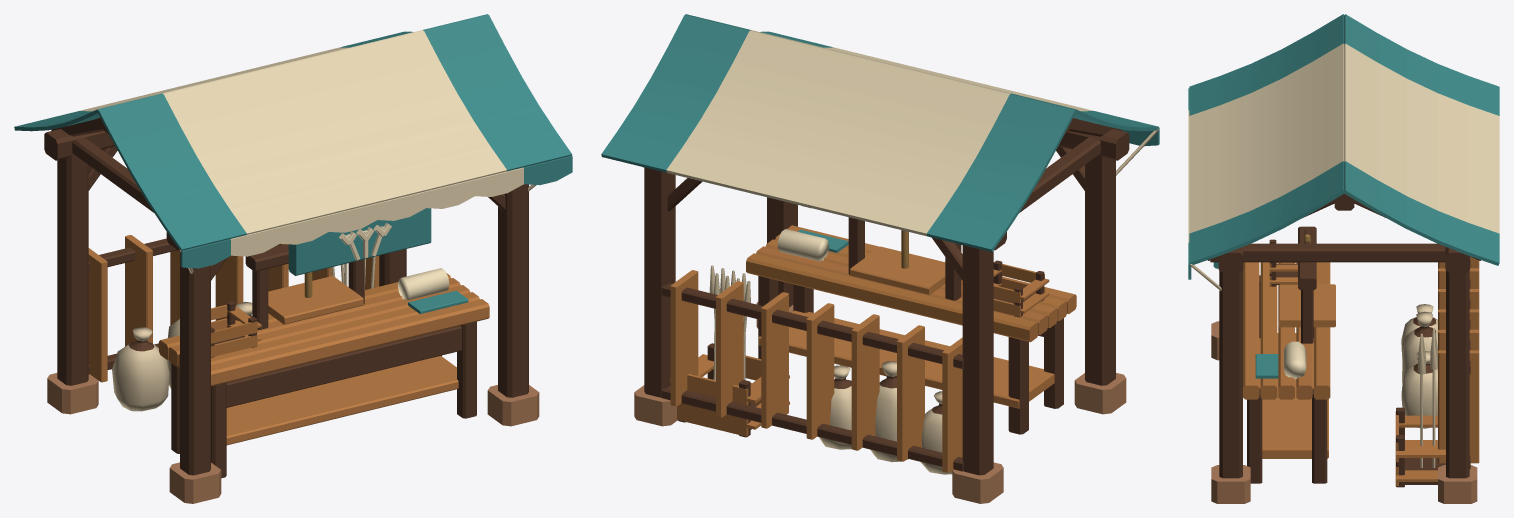
Rendered from station_trade_neva_a.glb.
3 renders of one model, left to right at view 1: azimuth 30°, elevation 25°; view 2: azimuth 150°, elevation 25°; view 3: azimuth 270°, elevation 25°, orthographic. The views are drawn at different scales.
Parts seen in each view (by area): view 1: station_trade_neva_a_workyard; view 2: station_trade_neva_a_workyard; view 3: station_trade_neva_a_workyard.
Part boxes in pixels (<box>): station_trade_neva_a_workyard: <box>14,14,572,503</box>; station_trade_neva_a_workyard: <box>601,14,1159,503</box>; station_trade_neva_a_workyard: <box>1188,14,1499,503</box>.
Bounding box in the file's own units: 4.07 × 3.47 × 3.02.
